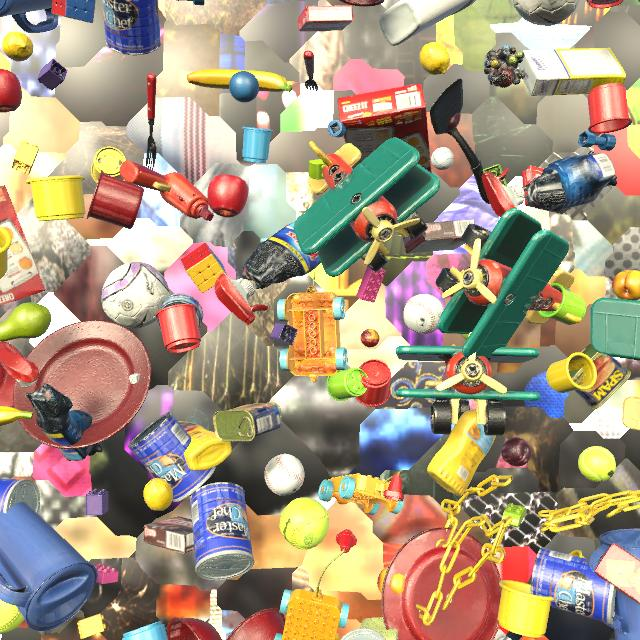ycb_002_master_chef_can: (128, 412, 216, 502), (531, 547, 616, 625), (190, 482, 254, 580), (102, 0, 161, 55), (0, 479, 41, 515), (340, 628, 386, 640)
ycb_003_cracker_box: (338, 84, 432, 173), (0, 185, 45, 306), (594, 543, 640, 604)
ycb_004_sugar_box: (518, 47, 626, 96)
ycb_006_mustard_bottle: (427, 409, 496, 497), (178, 421, 232, 471), (335, 632, 340, 640)
ycb_007_tuna_fish_can: (157, 293, 203, 330)
ycb_008_pudding_box: (403, 219, 475, 253), (144, 516, 194, 554)
ycb_009_gelatin_box: (522, 165, 571, 214), (298, 6, 354, 32)
ycb_010_potted_meat_can: (569, 344, 631, 409), (213, 402, 282, 442)
ycb_011_banana: (187, 69, 292, 92), (0, 406, 33, 431)
ycb_013_apple: (207, 174, 249, 217), (0, 68, 22, 113)
ycb_014_lemon: (419, 42, 450, 75), (143, 478, 173, 511), (2, 32, 34, 62)
ycb_015_peach: (612, 270, 640, 301), (377, 567, 405, 594)
ycb_016_pear: (0, 302, 52, 341)
ycb_017_orange: (638, 0, 640, 2)
ycb_018_plum: (501, 437, 531, 467), (430, 112, 461, 134)
